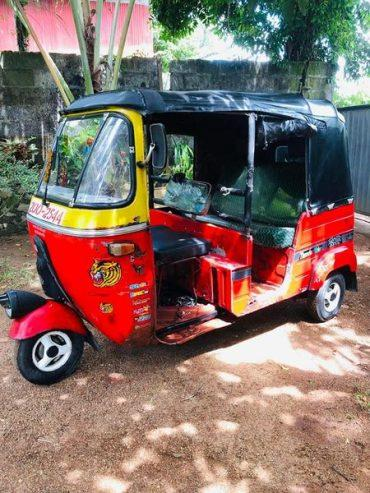threewheel: (1, 88, 358, 386)
